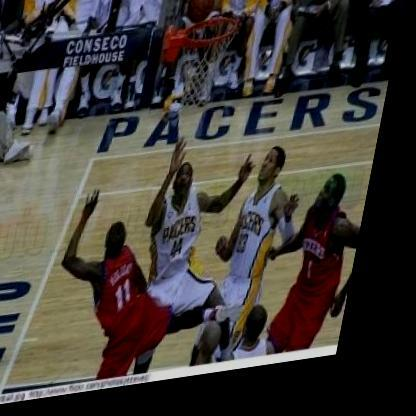basketball: (187, 0, 223, 33)
